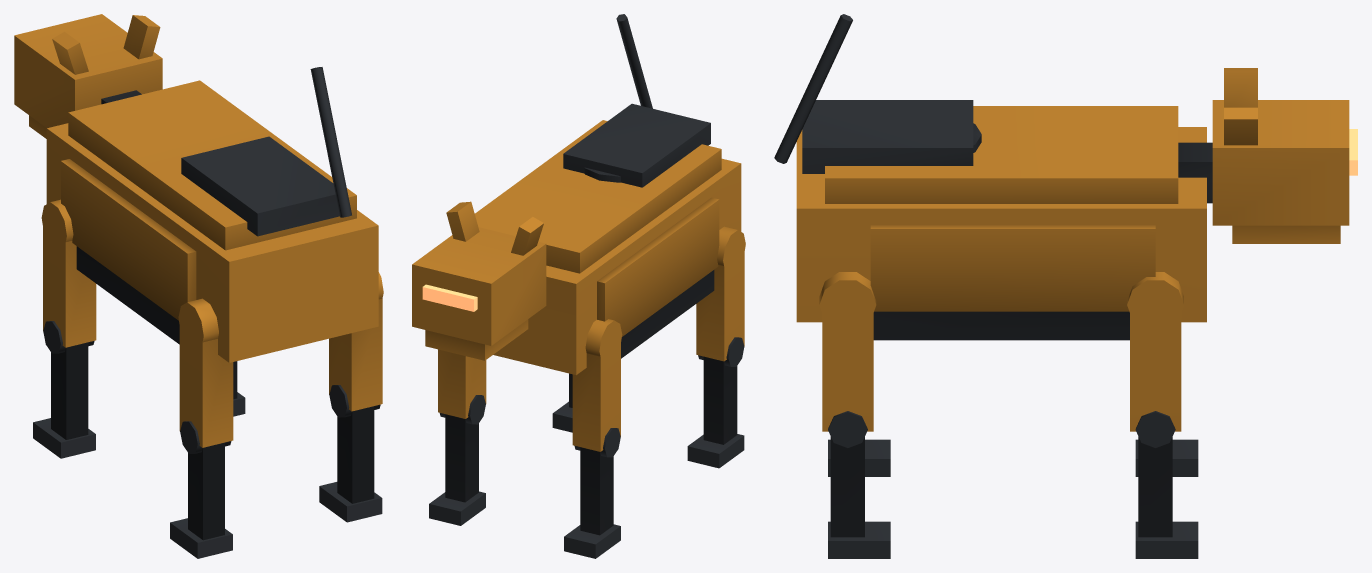
File: hound.cfac13d8.glb
3 views of the same model, side by side, from view 1: azimuth 30°, elevation 25°; view 2: azimuth 150°, elevation 25°; view 3: azimuth 270°, elevation 25° (orthographic). The views are drawn at different scales.
Visible parts, largest first — view 1: Body, Head, Leg_BL, Leg_FL, Shin_BR, Shin_FL, Shin_BL, Leg_BR; view 2: Body, Head, Leg_FL, Leg_BL, Shin_BL, Shin_FL, Shin_FR, Leg_FR, Eye, Shin_BR; view 3: Body, Head, Leg_BR, Leg_FR, Shin_FR, Shin_BR, Shin_FL, Shin_BL.
Part boxes in pixels (bbox=[...]): Body: bbox=[46, 67, 378, 362]; Head: bbox=[14, 14, 162, 138]; Leg_BL: bbox=[178, 298, 233, 447]; Leg_FL: bbox=[41, 199, 96, 347]; Shin_BR: bbox=[319, 385, 382, 522]; Shin_FL: bbox=[33, 321, 95, 458]; Shin_BL: bbox=[170, 421, 232, 558]; Leg_BR: bbox=[329, 272, 383, 411]; Body: bbox=[475, 14, 741, 375]; Head: bbox=[412, 201, 546, 360]; Leg_FL: bbox=[572, 319, 622, 451]; Leg_BL: bbox=[696, 226, 745, 361]; Shin_BL: bbox=[687, 337, 744, 468]; Shin_FL: bbox=[564, 428, 620, 558]; Shin_FR: bbox=[429, 395, 485, 525]; Leg_FR: bbox=[438, 349, 486, 418]; Eye: bbox=[422, 284, 477, 311]; Shin_BR: bbox=[552, 373, 572, 432]; Body: bbox=[774, 14, 1212, 340]; Head: bbox=[1212, 68, 1349, 243]; Leg_BR: bbox=[819, 272, 876, 431]; Leg_FR: bbox=[1127, 272, 1183, 431]; Shin_FR: bbox=[1135, 411, 1198, 558]; Shin_BR: bbox=[828, 411, 890, 558]; Shin_FL: bbox=[1135, 439, 1198, 476]; Shin_BL: bbox=[828, 439, 890, 476].
Size of the model in its own units: 0.42 by 0.9923 by 1.02.
